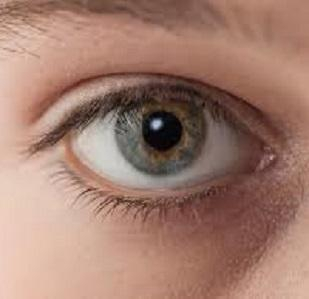open: (0, 65, 309, 251)
